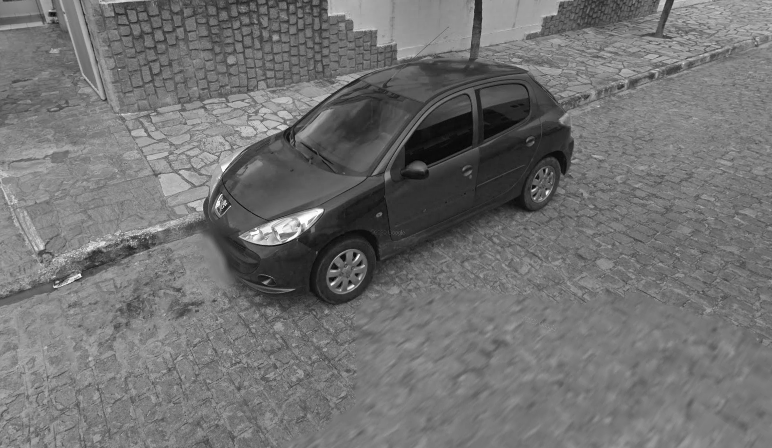car: (200, 24, 575, 305)
